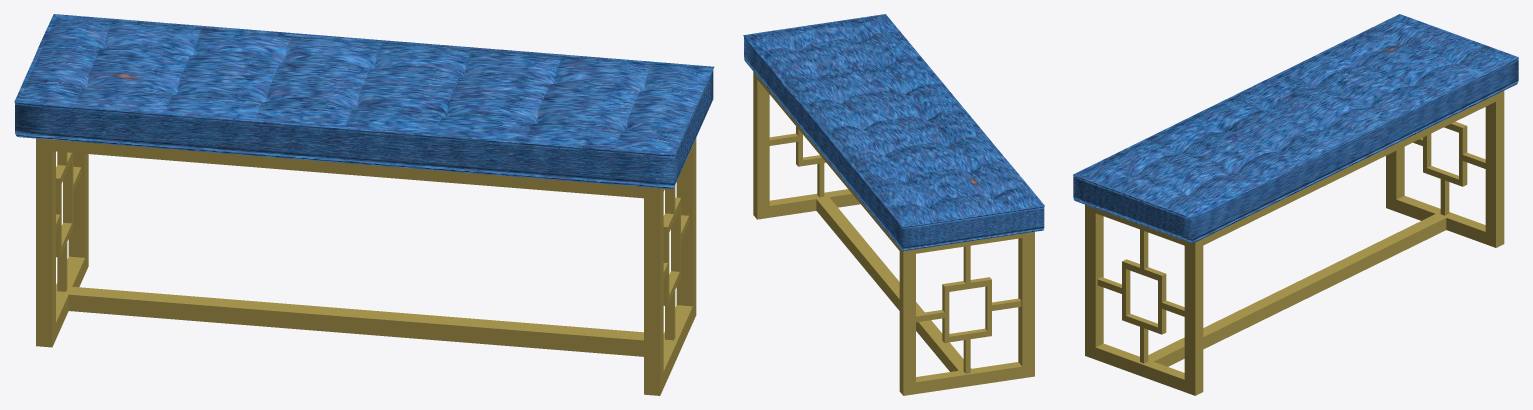
The model's file is bench.glb.
3 views of the same model, side by side, from view 1: azimuth 30°, elevation 25°; view 2: azimuth 150°, elevation 25°; view 3: azimuth 270°, elevation 25° (orthographic). The views are drawn at different scales.
Visible parts, largest first — view 1: Cube, Cube.001; view 2: Cube, Cube.001; view 3: Cube, Cube.001.
Boxes of the visible parts, left/top/right/bottom form: Cube: left=14, top=14, right=714, bottom=189; Cube.001: left=36, top=138, right=696, bottom=395; Cube: left=743, top=14, right=1044, bottom=251; Cube.001: left=753, top=72, right=1034, bottom=395; Cube: left=1073, top=14, right=1518, bottom=243; Cube.001: left=1085, top=91, right=1504, bottom=395.
Size of what is drawn, in the model's own units: 15.09 by 6.52 by 13.92.
Materials: 3 (1 with a texture image).
